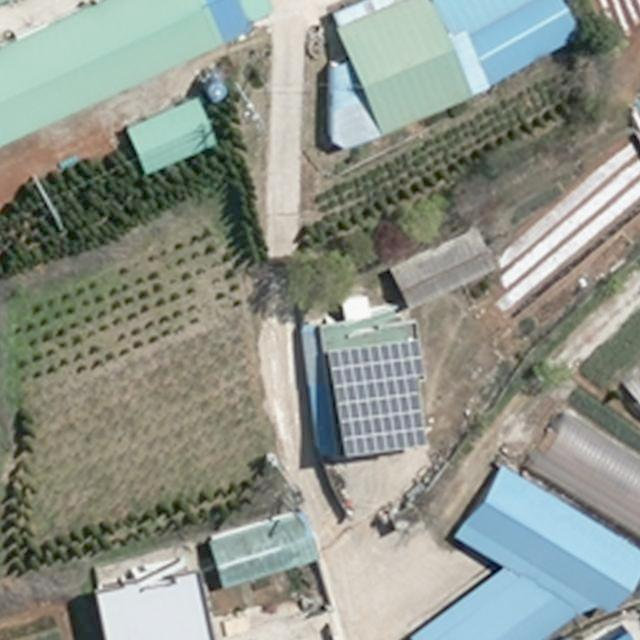solar: (327, 336, 426, 464)
